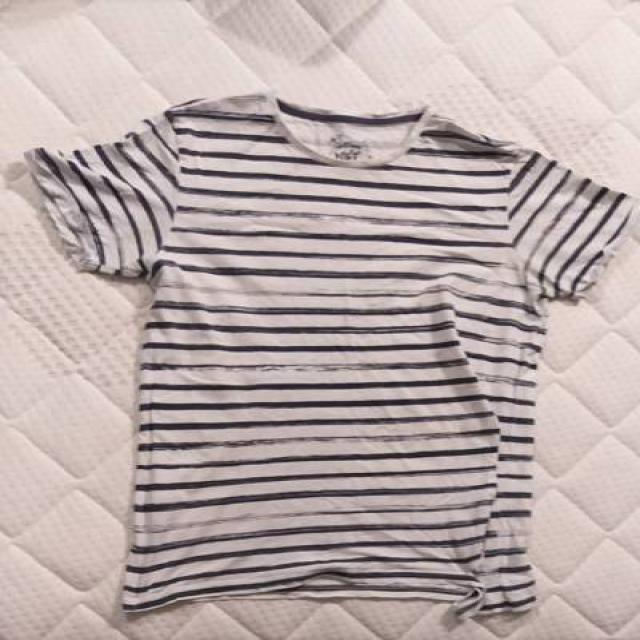shirt: (24, 91, 636, 624)
